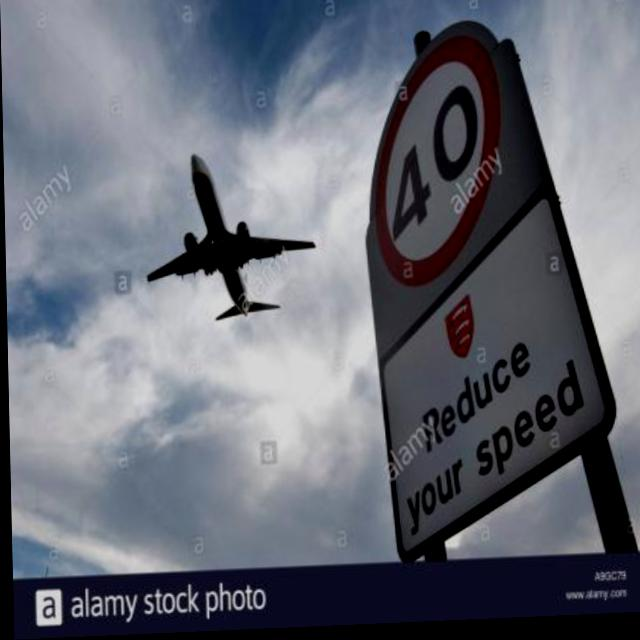limit40: (365, 38, 505, 288)
